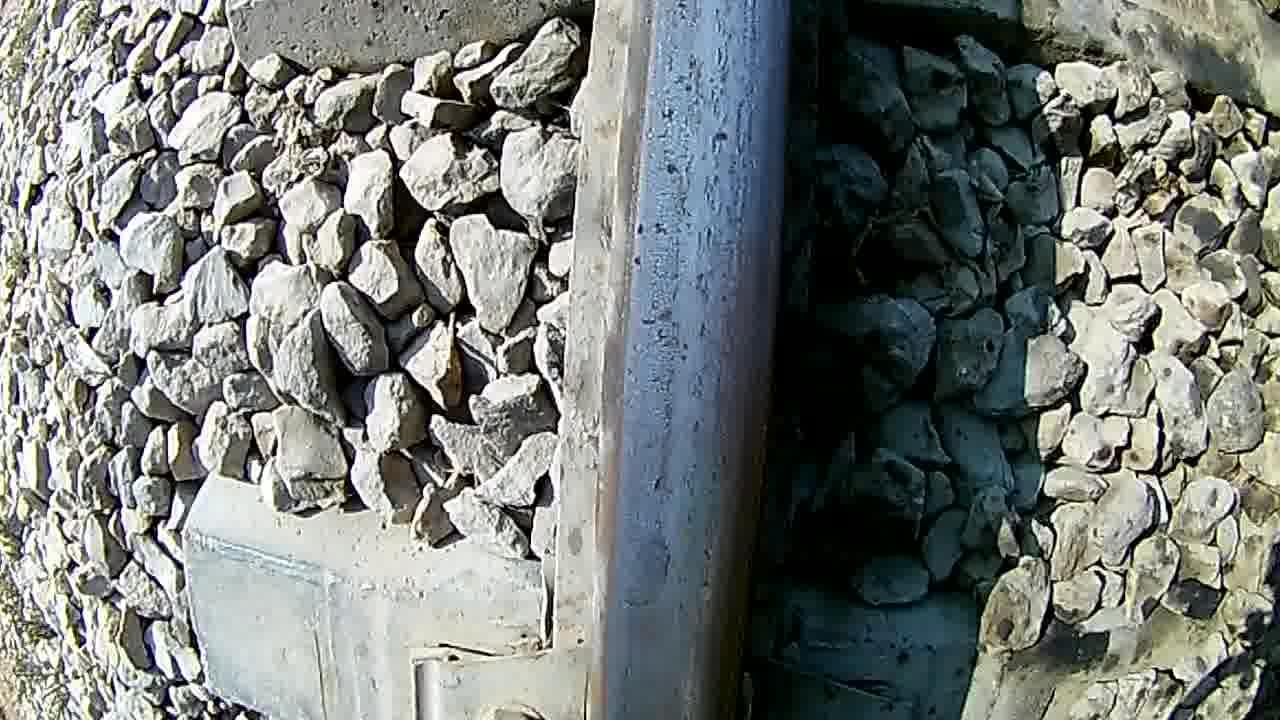crack: (601, 0, 790, 720)
